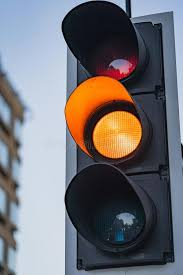amber: (61, 2, 181, 274), (72, 6, 166, 262), (80, 23, 150, 250)
